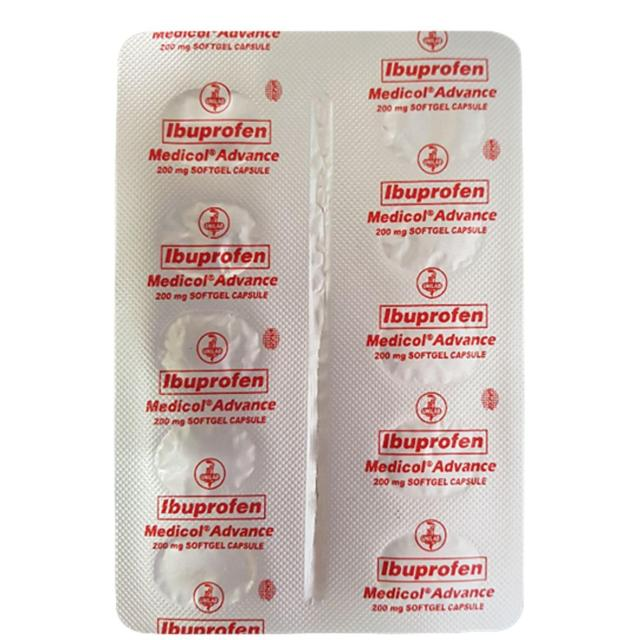blister: (110, 24, 534, 635)
